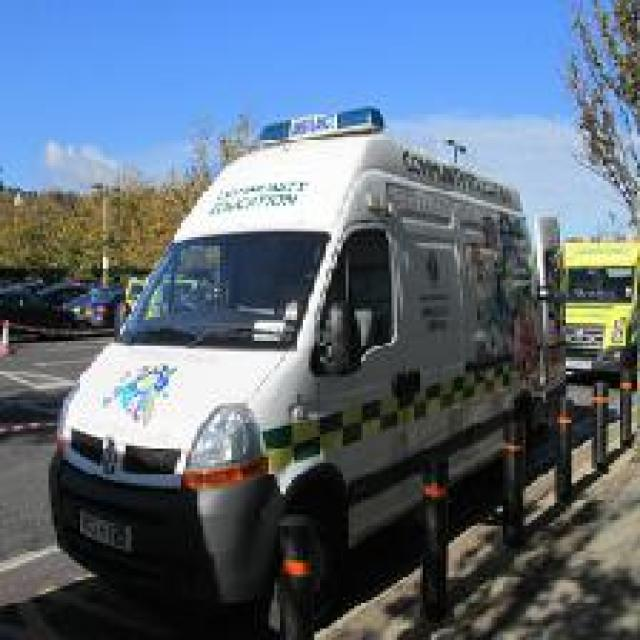Ambulance: (46, 103, 568, 637), (546, 237, 637, 380)
